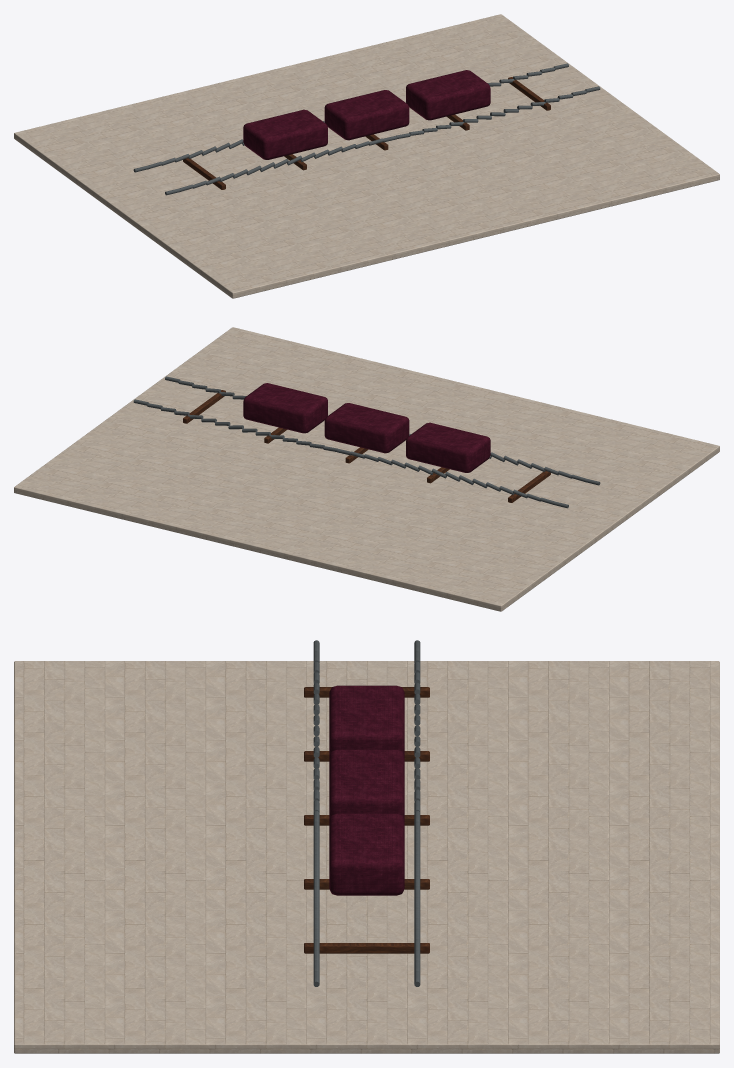
The model's file is explore3d__coaster_platform.glb.
The picture shows the model from 3 angles, top to bottom: view 1: azimuth 30°, elevation 25°; view 2: azimuth 150°, elevation 25°; view 3: azimuth 270°, elevation 25°; orthographic projection. The views are drawn at different scales.
Visible parts, largest first — view 1: Runtime_local_coaster_platform; view 2: Runtime_local_coaster_platform; view 3: Runtime_local_coaster_platform.
Part boxes in pixels (x1,y1,x2,y2): Runtime_local_coaster_platform: (14, 14, 719, 298); Runtime_local_coaster_platform: (14, 327, 719, 611); Runtime_local_coaster_platform: (14, 640, 719, 1053).
Bounding box in the file's own units: 18 × 1.97 × 14.
4 materials, 4 textured.
